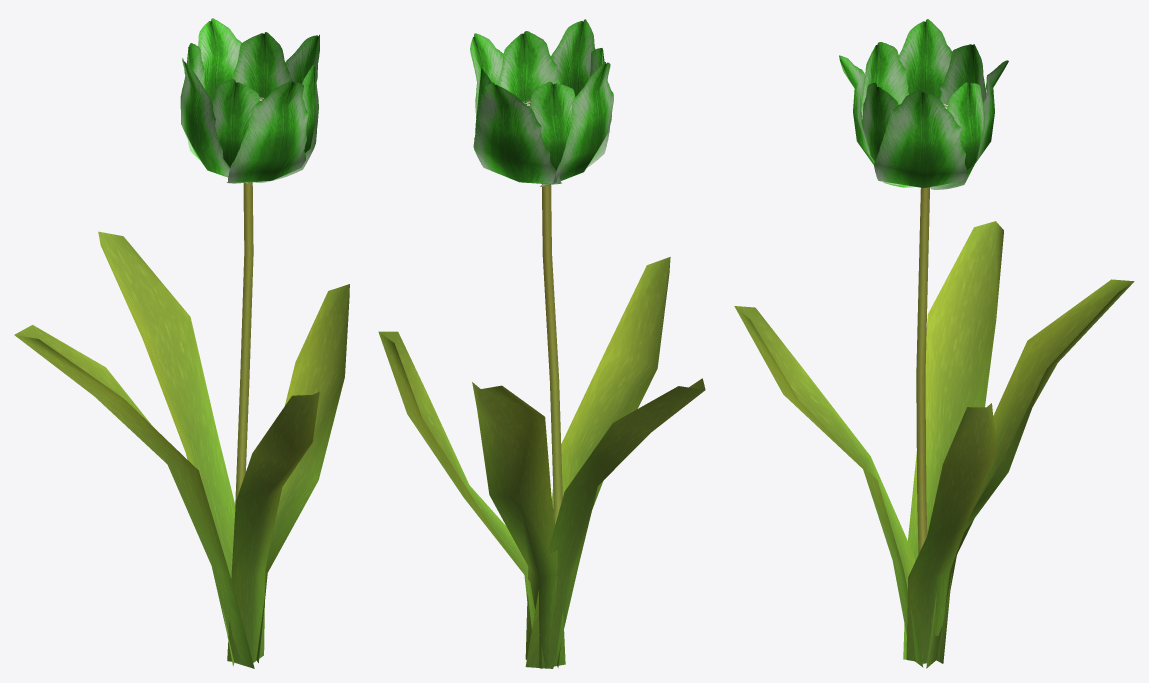
Rendered from m_flower21.fbx.
The picture shows the model from 3 angles, left to right: view 1: azimuth 30°, elevation 25°; view 2: azimuth 150°, elevation 25°; view 3: azimuth 270°, elevation 25°; orthographic projection.
Parts seen in each view (by area): view 1: mesh_flower21; view 2: mesh_flower21; view 3: mesh_flower21.
Boxes of the visible parts, x1,y1,x2,y2 form: mesh_flower21: (14,18,349,668); mesh_flower21: (378,19,705,668); mesh_flower21: (734,19,1134,668).
Bounding box in the file's own units: 0.2344 × 0.4208 × 0.2474.
1 material, 1 textured.
